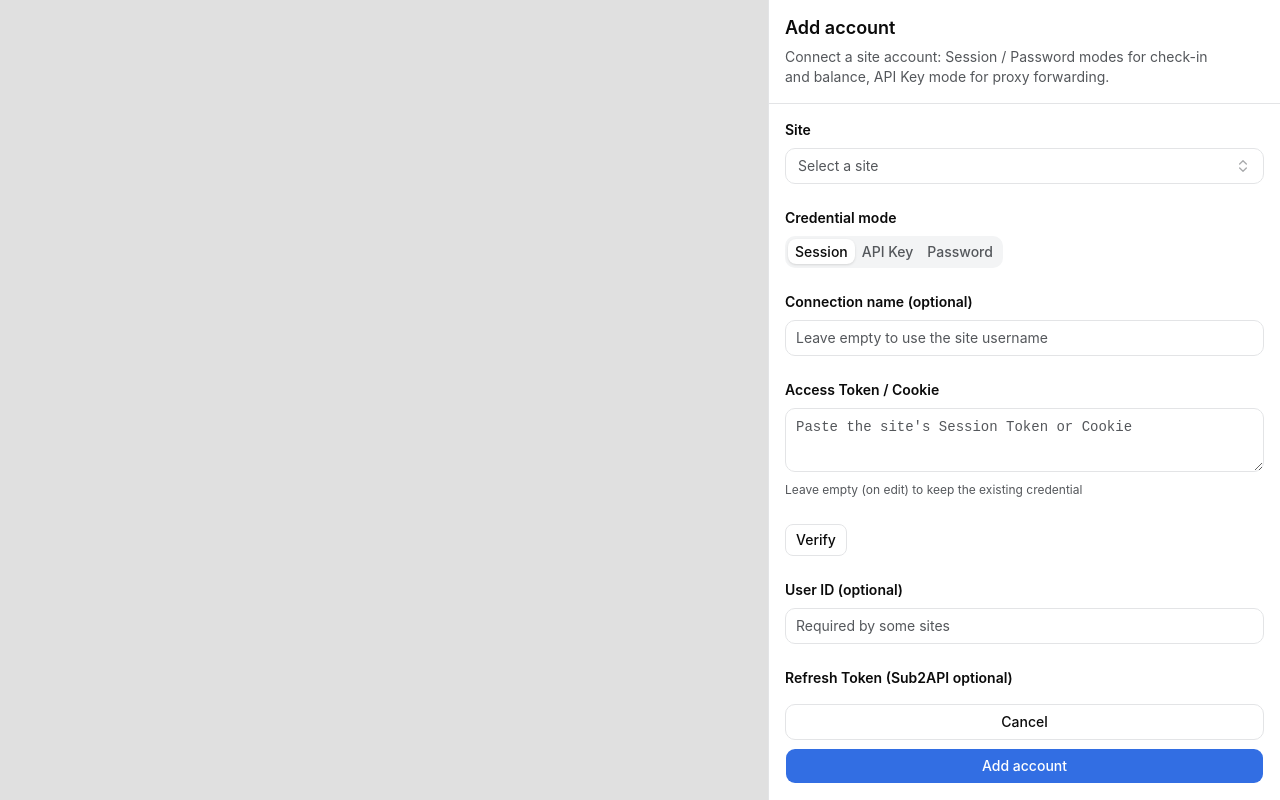
Test case: AccountFormDialog searchable site selector › adapts a blank credential form when selecting an API site
The width and height of the screenshot is (1280, 800).
Click the dropdown labelled "site". click: (838, 165)
box: [785,148,1264,184]
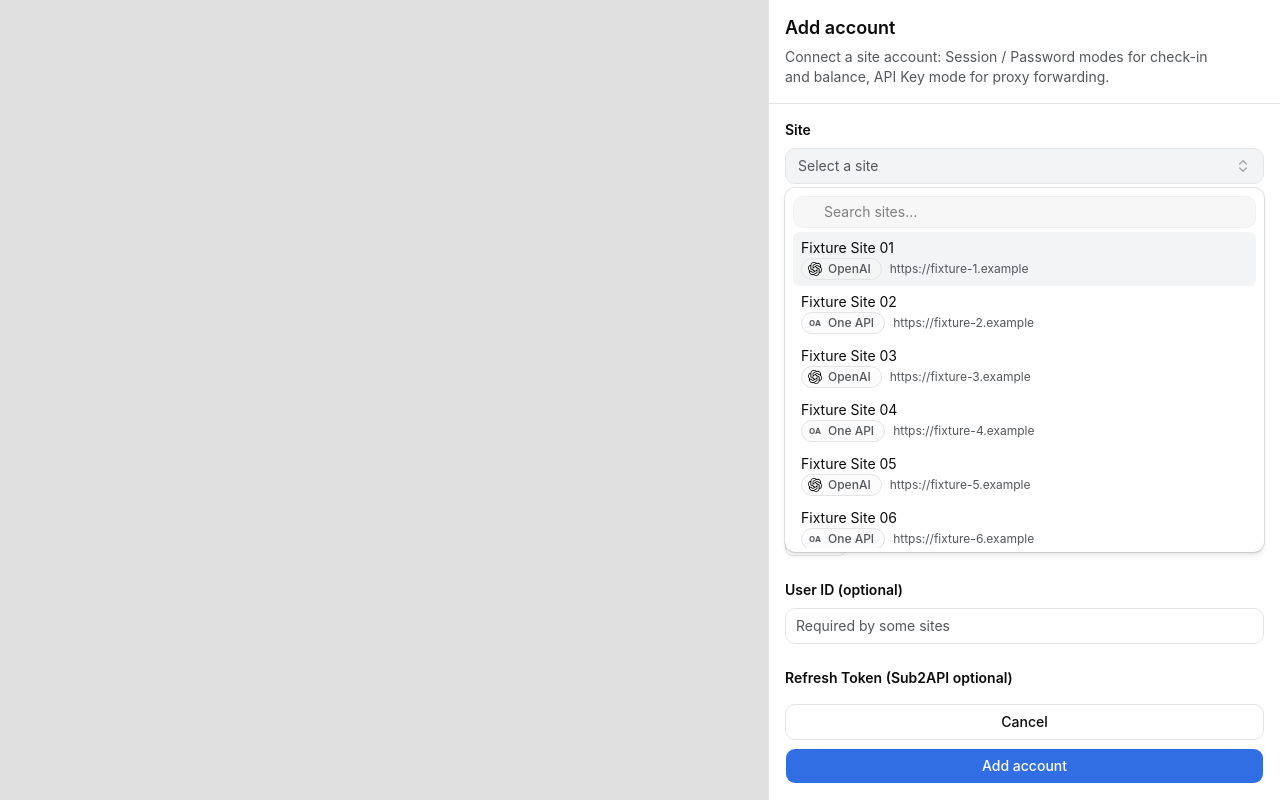
Type "Fixture Site 01" into the dropdown with placeholder "Search sites…". click: (1036, 212)
box: [818,202,1255,222]
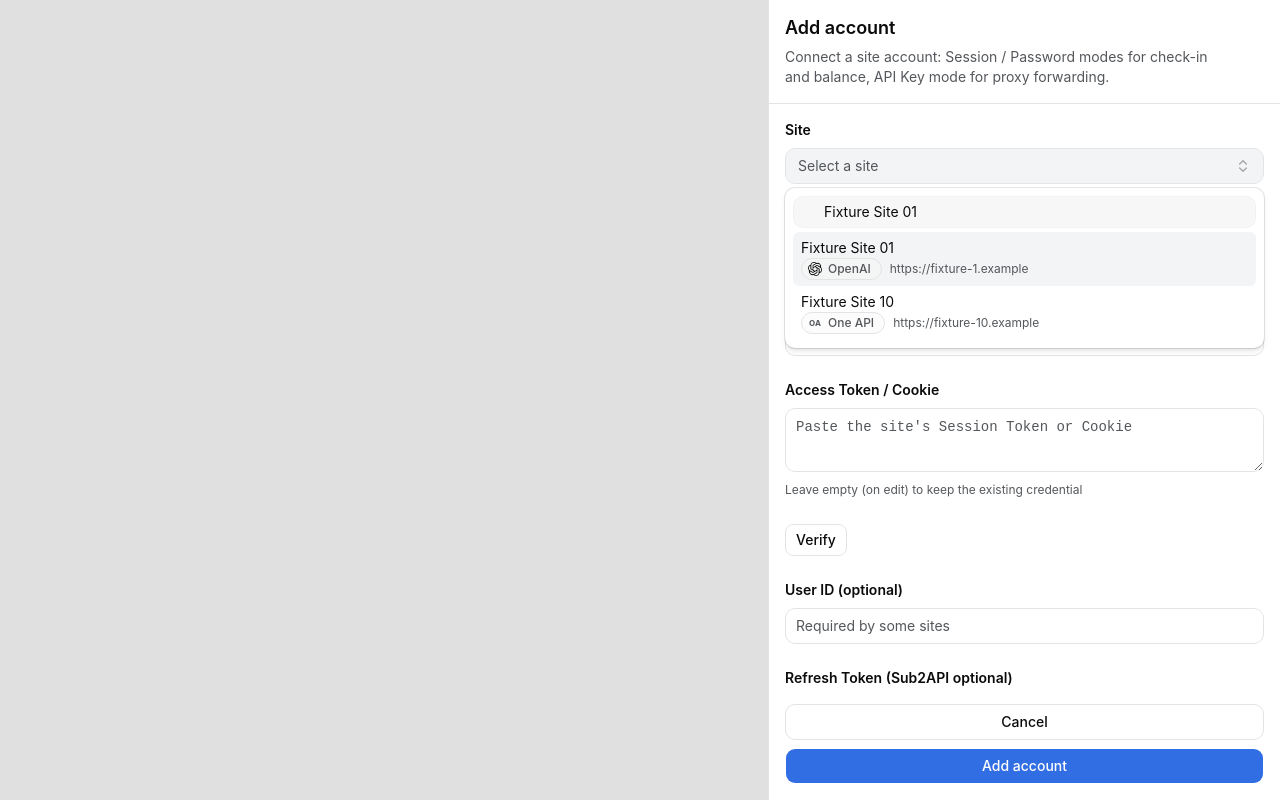
Click the option "Fixture Site 01 OpenAI https://fixture-1.example". click: (1024, 259)
box: [793,232,1256,286]
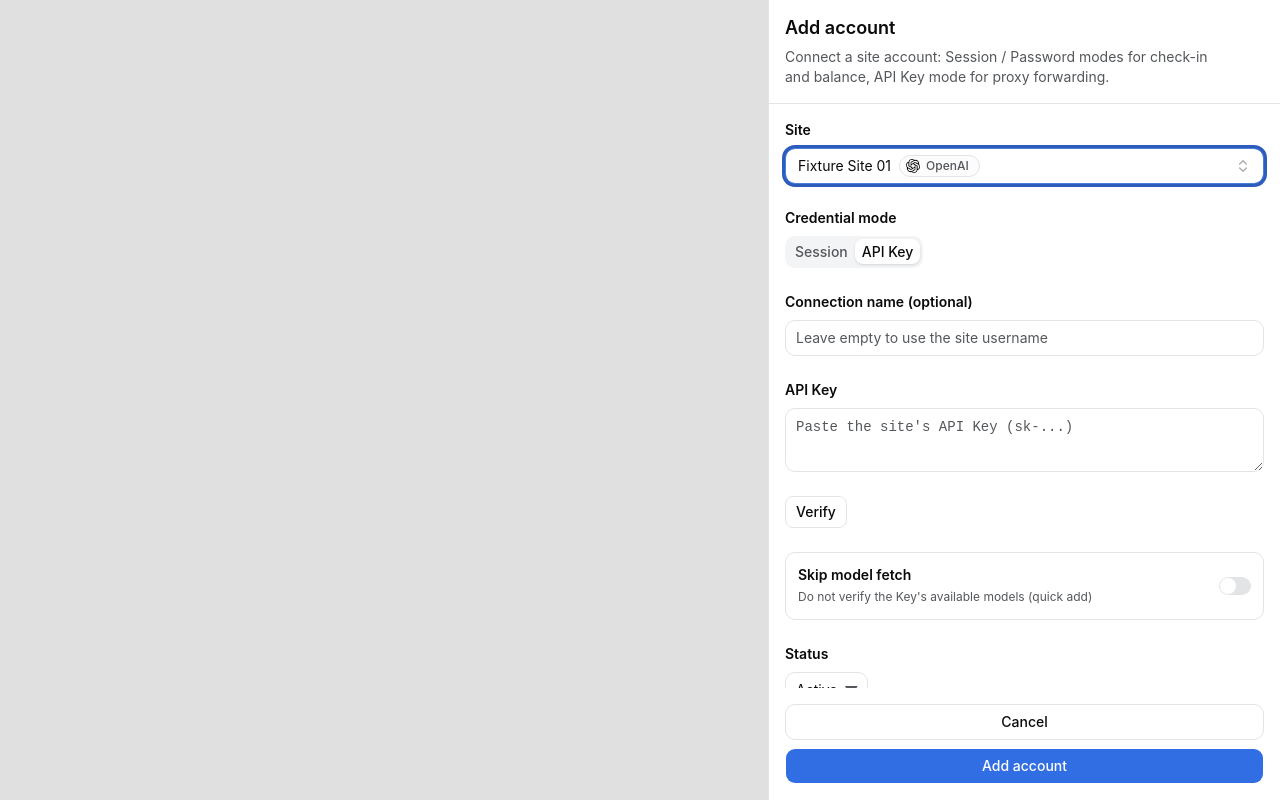
Check: the text box labelled "API Key" is shown, box [785,408,1264,472]
